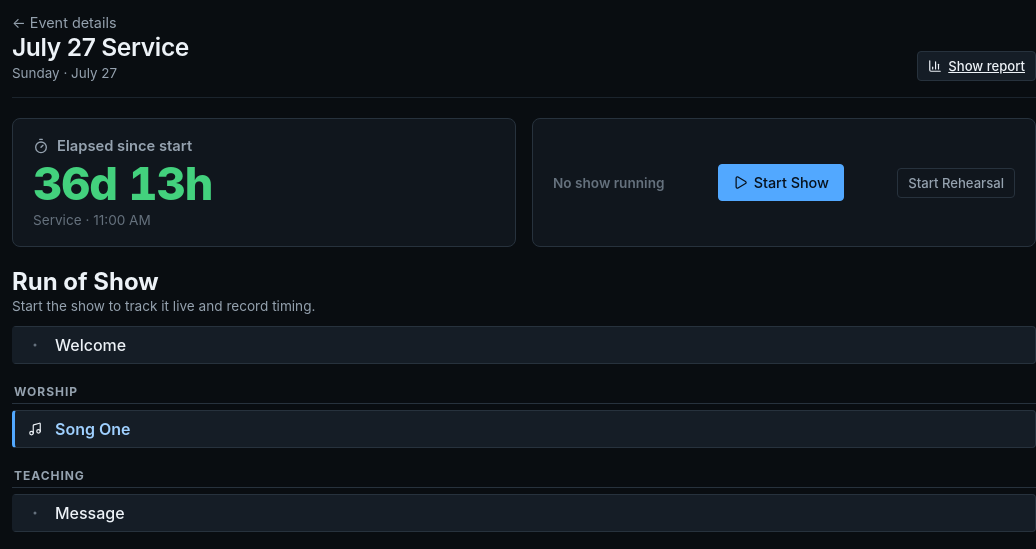
it: permission to operate › surfaces a conflict from the server verbatim
Click the button "Start Show": (781, 182) top-left (718, 164), bottom-right (844, 201)
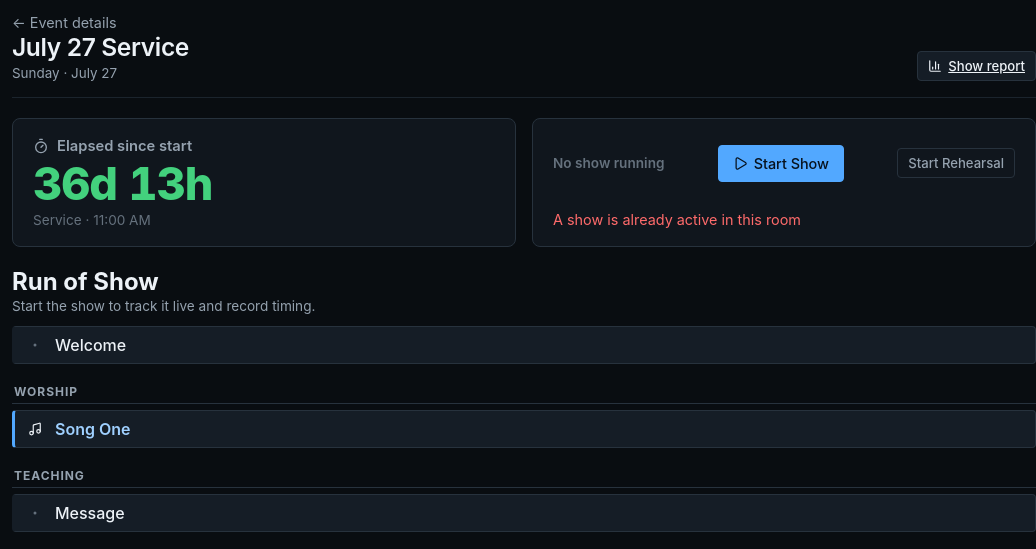
Now the message reads "A show is already active in this room", box top-left (553, 211), bottom-right (801, 228)
